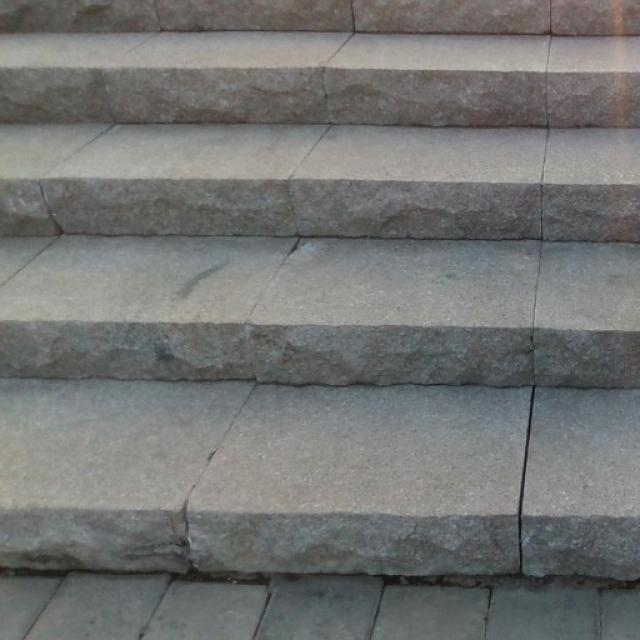Stairs: (0, 0, 639, 588)
